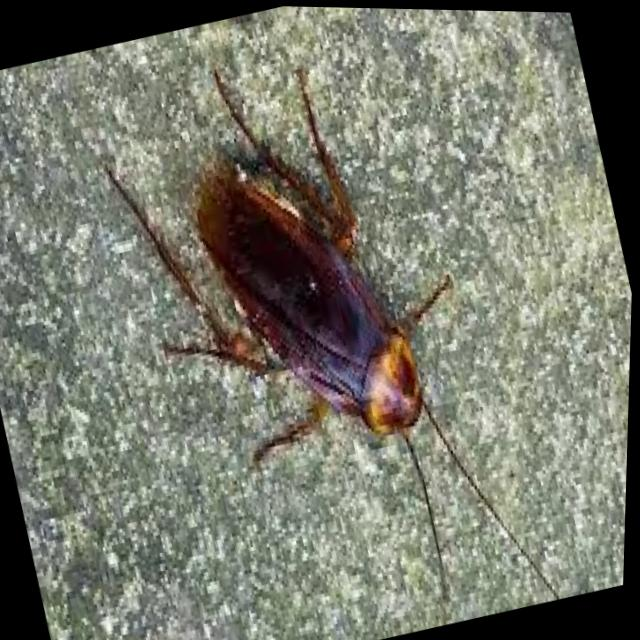Cockroach: (64, 1, 585, 640)
